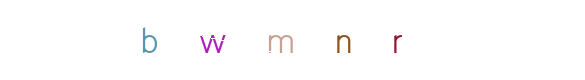B: (108, 0, 188, 80)
M: (244, 0, 324, 80)
N: (252, 0, 332, 80)
R: (322, 0, 402, 80)
W: (172, 0, 252, 80)
